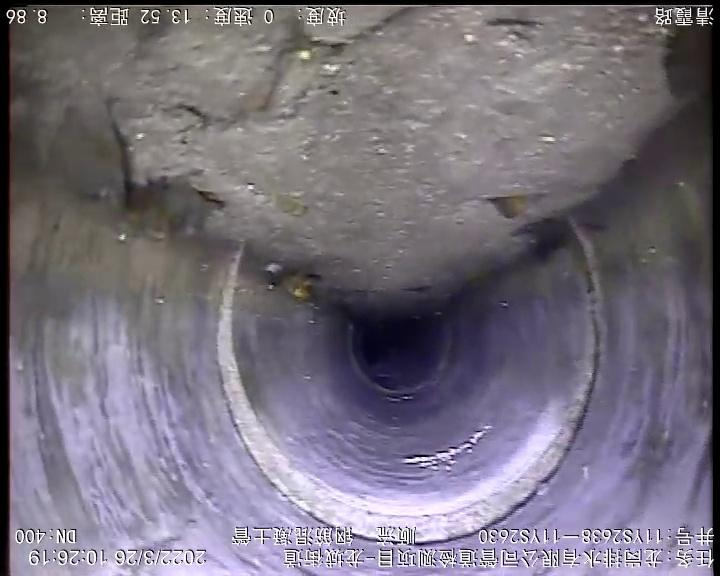CKTJ: (210, 206, 606, 552), (342, 318, 455, 400)
PL: (21, 7, 700, 319), (390, 420, 497, 478)
